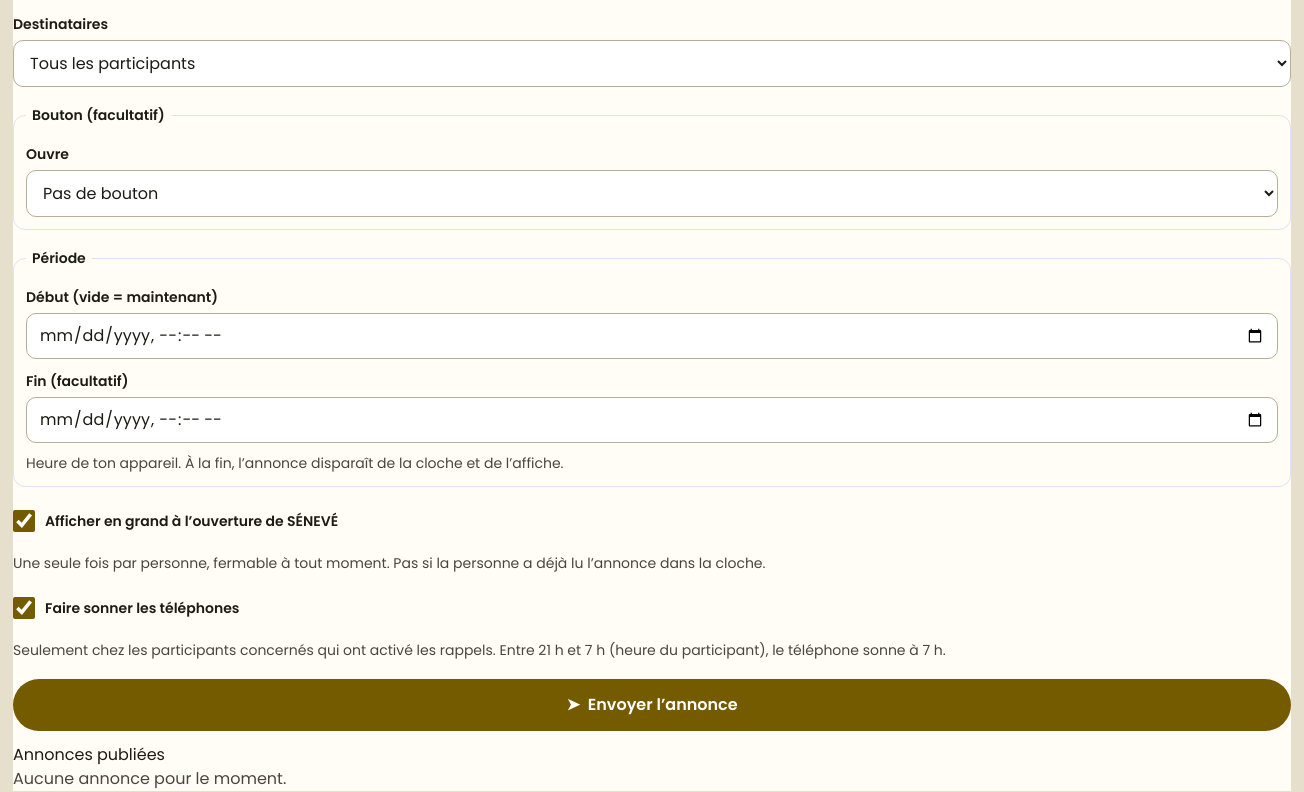
Scenario: image et vidéo dans les annonces (décision du 29/10/2026) › si l’image ne part pas, l’annonce n’est pas publiée et le dit
Earlier steps of the test are not shown.
(page scrolled)
Click the button "➤ Envoyer l’annonce" at coordinates (652, 705), box [13, 679, 1291, 731]
(page scrolled)
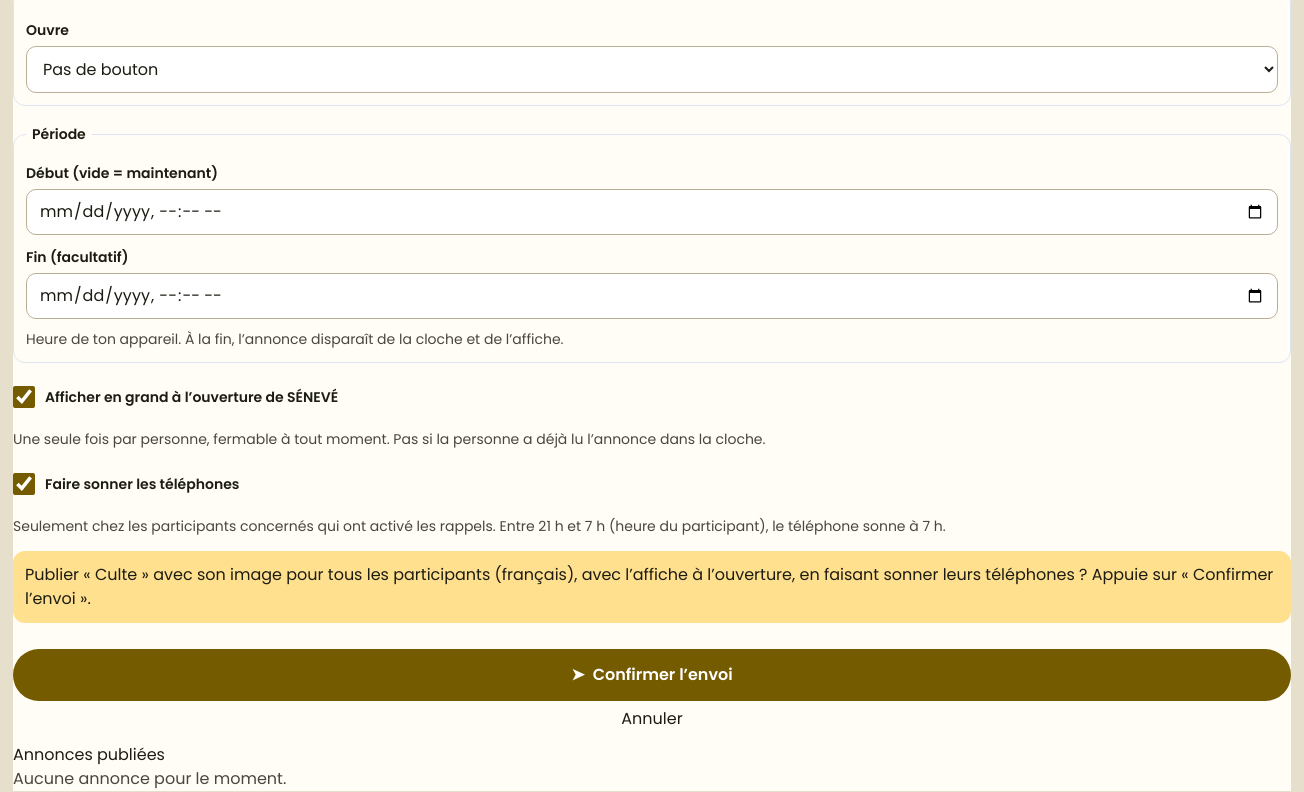
Click the button "➤ Confirmer l’envoi" at coordinates (652, 675), box [13, 649, 1291, 701]
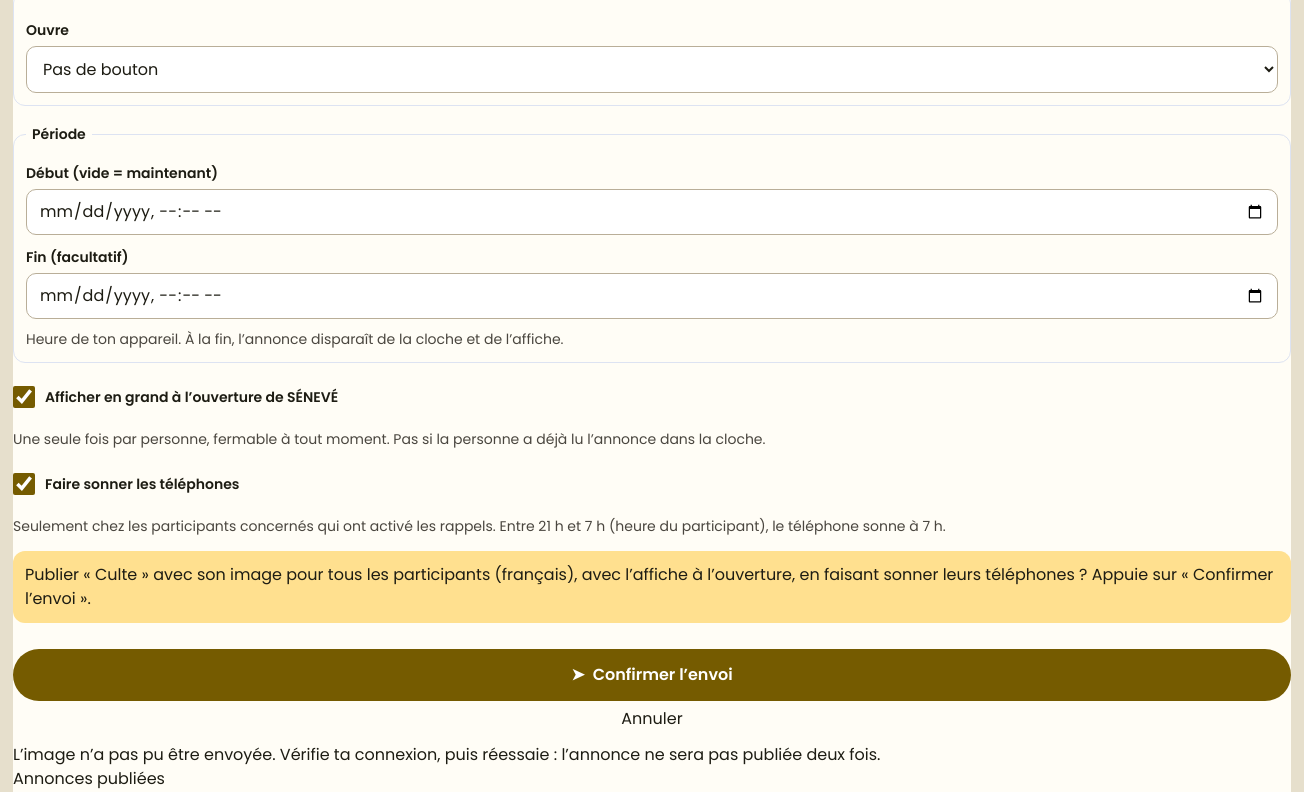
Expected: the text "L’image n’a pas pu être envoyée" is shown, [13, 743, 880, 766]
